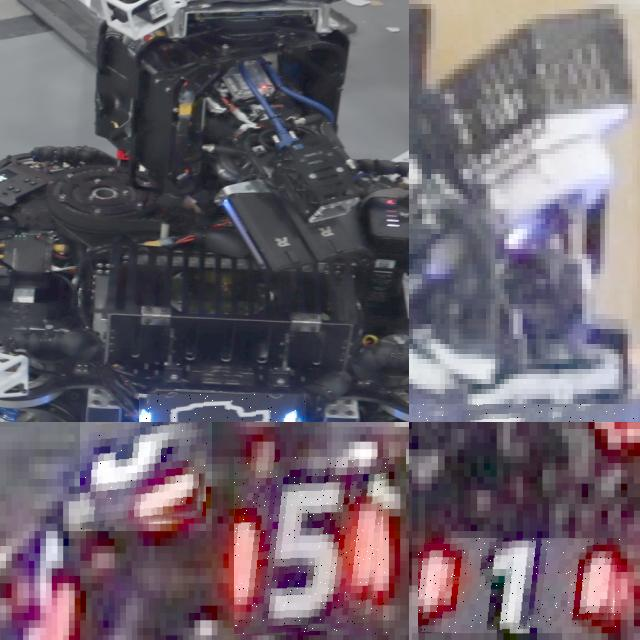Bs: (139, 394, 307, 422)
R1: (418, 538, 621, 633)
R5: (234, 457, 389, 635), (80, 422, 211, 531), (0, 523, 74, 640)
